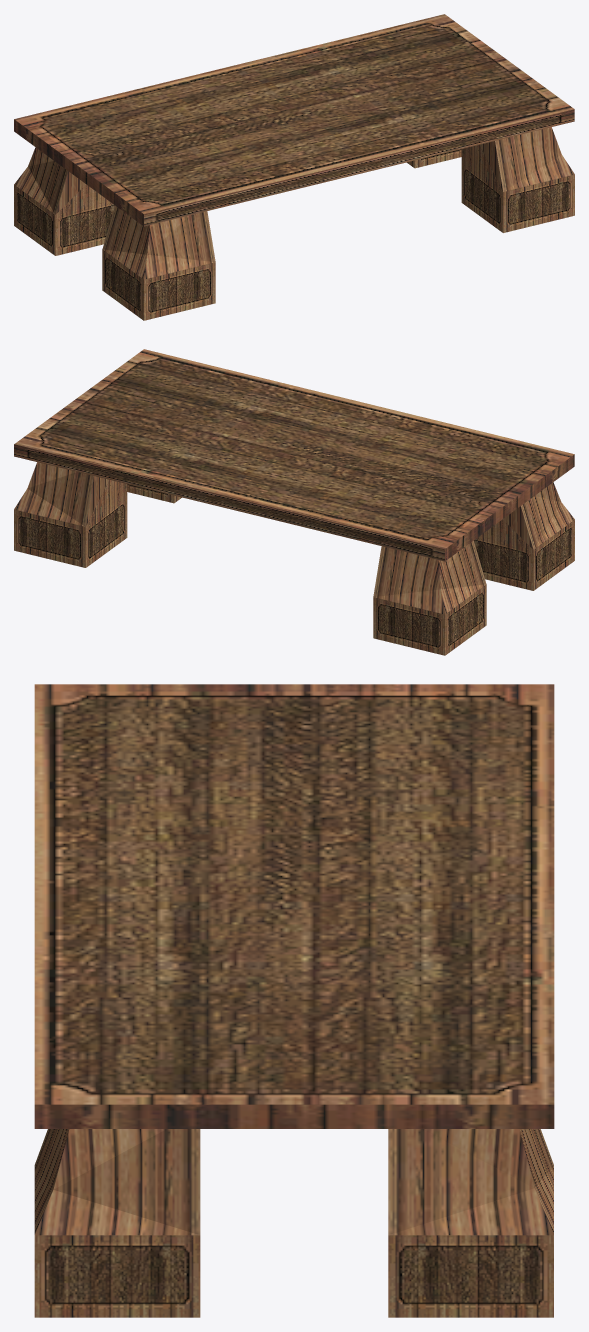
File: frn_all_eleg_coffee_table_s02_l1.fbx
3 views of the same model, one above another, from view 1: azimuth 30°, elevation 25°; view 2: azimuth 150°, elevation 25°; view 3: azimuth 270°, elevation 25° (orthographic). The views are drawn at different scales.
Visible parts, largest first — view 1: mesh_node; view 2: mesh_node; view 3: mesh_node.
Part boxes in pixels (bbox=[...]): mesh_node: bbox=[14, 14, 574, 320]; mesh_node: bbox=[14, 349, 574, 655]; mesh_node: bbox=[34, 684, 554, 1317].
Bounding box in the file's own units: 1.69 × 0.3985 × 0.8813.
1 material, 1 textured.
